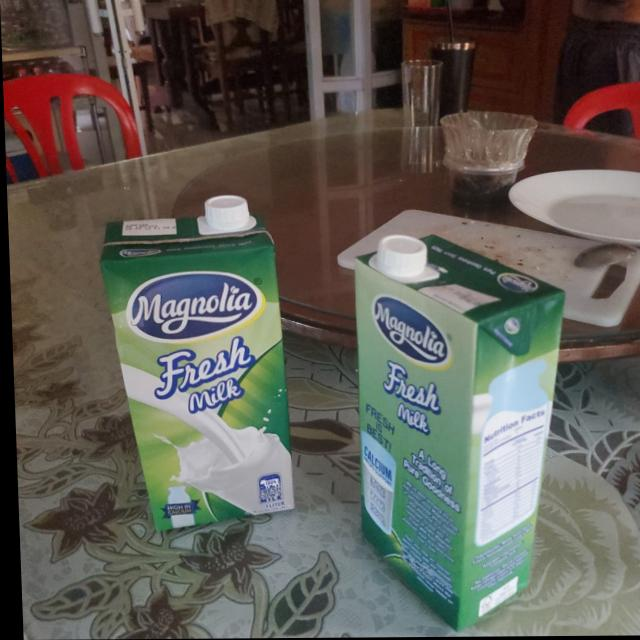milk: (347, 237, 572, 629), (93, 201, 290, 530)
